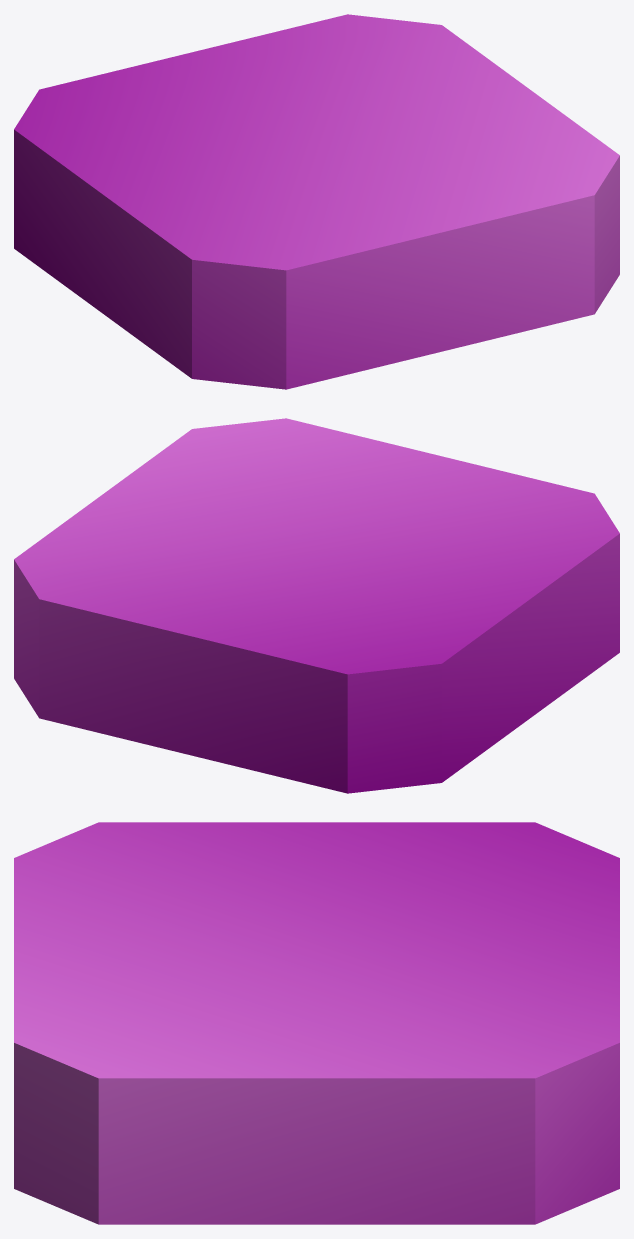
Rendered from Sandstone.fbx.
3 renders of one model, top to bottom at view 1: azimuth 30°, elevation 25°; view 2: azimuth 150°, elevation 25°; view 3: azimuth 270°, elevation 25°, orthographic. The views are drawn at different scales.
Parts seen in each view (by area): view 1: SANDSTONE.001; view 2: SANDSTONE.001; view 3: SANDSTONE.001.
Boxes of the visible parts, x1=… form: SANDSTONE.001: x1=14, y1=14, x2=619, y2=389; SANDSTONE.001: x1=14, y1=418, x2=619, y2=793; SANDSTONE.001: x1=14, y1=822, x2=619, y2=1224.
Size of the model in its own units: 131 by 34.82 by 131.
Materials: 1 (1 with a texture image).
